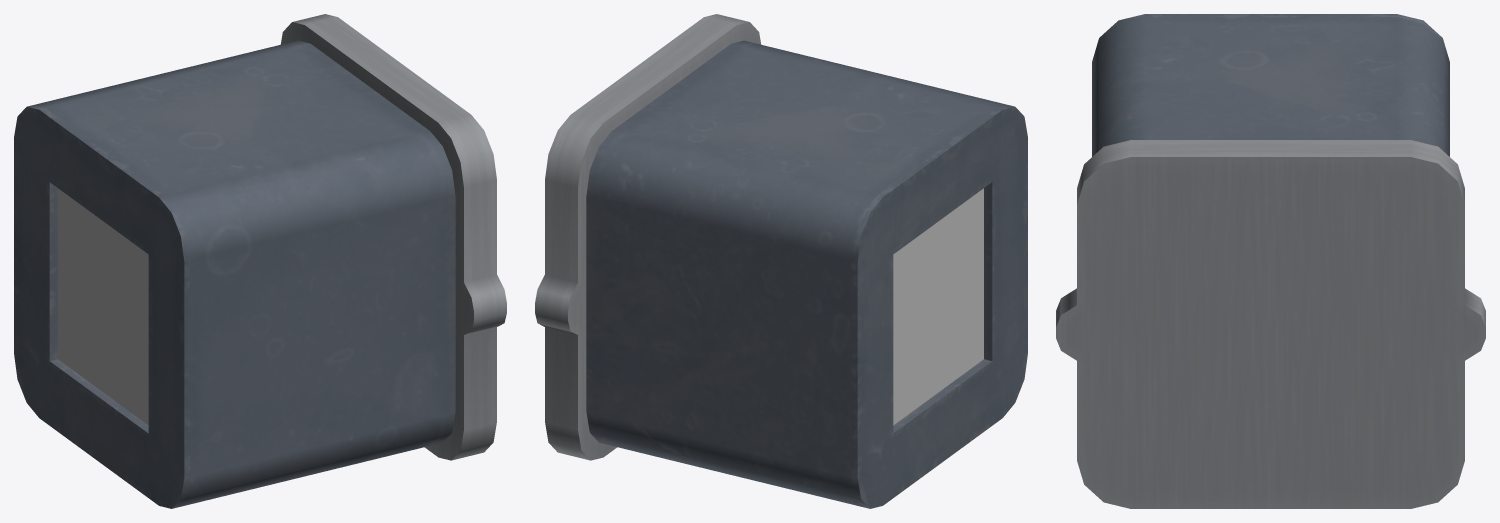
Rendered from ElectricalMeter_D.fbx.
The picture shows the model from 3 angles, left to right: view 1: azimuth 30°, elevation 25°; view 2: azimuth 150°, elevation 25°; view 3: azimuth 270°, elevation 25°; orthographic projection. The views are drawn at different scales.
Parts seen in each view (by area): view 1: EletricalMeter_D; view 2: EletricalMeter_D; view 3: EletricalMeter_D.
Boxes of the visible parts, box(x1,y1,x2,y2) form: EletricalMeter_D: box(14, 14, 506, 508); EletricalMeter_D: box(535, 14, 1027, 508); EletricalMeter_D: box(1056, 14, 1485, 508).
Bounding box in the file's own units: 14.36 × 15.02 × 16.63.
